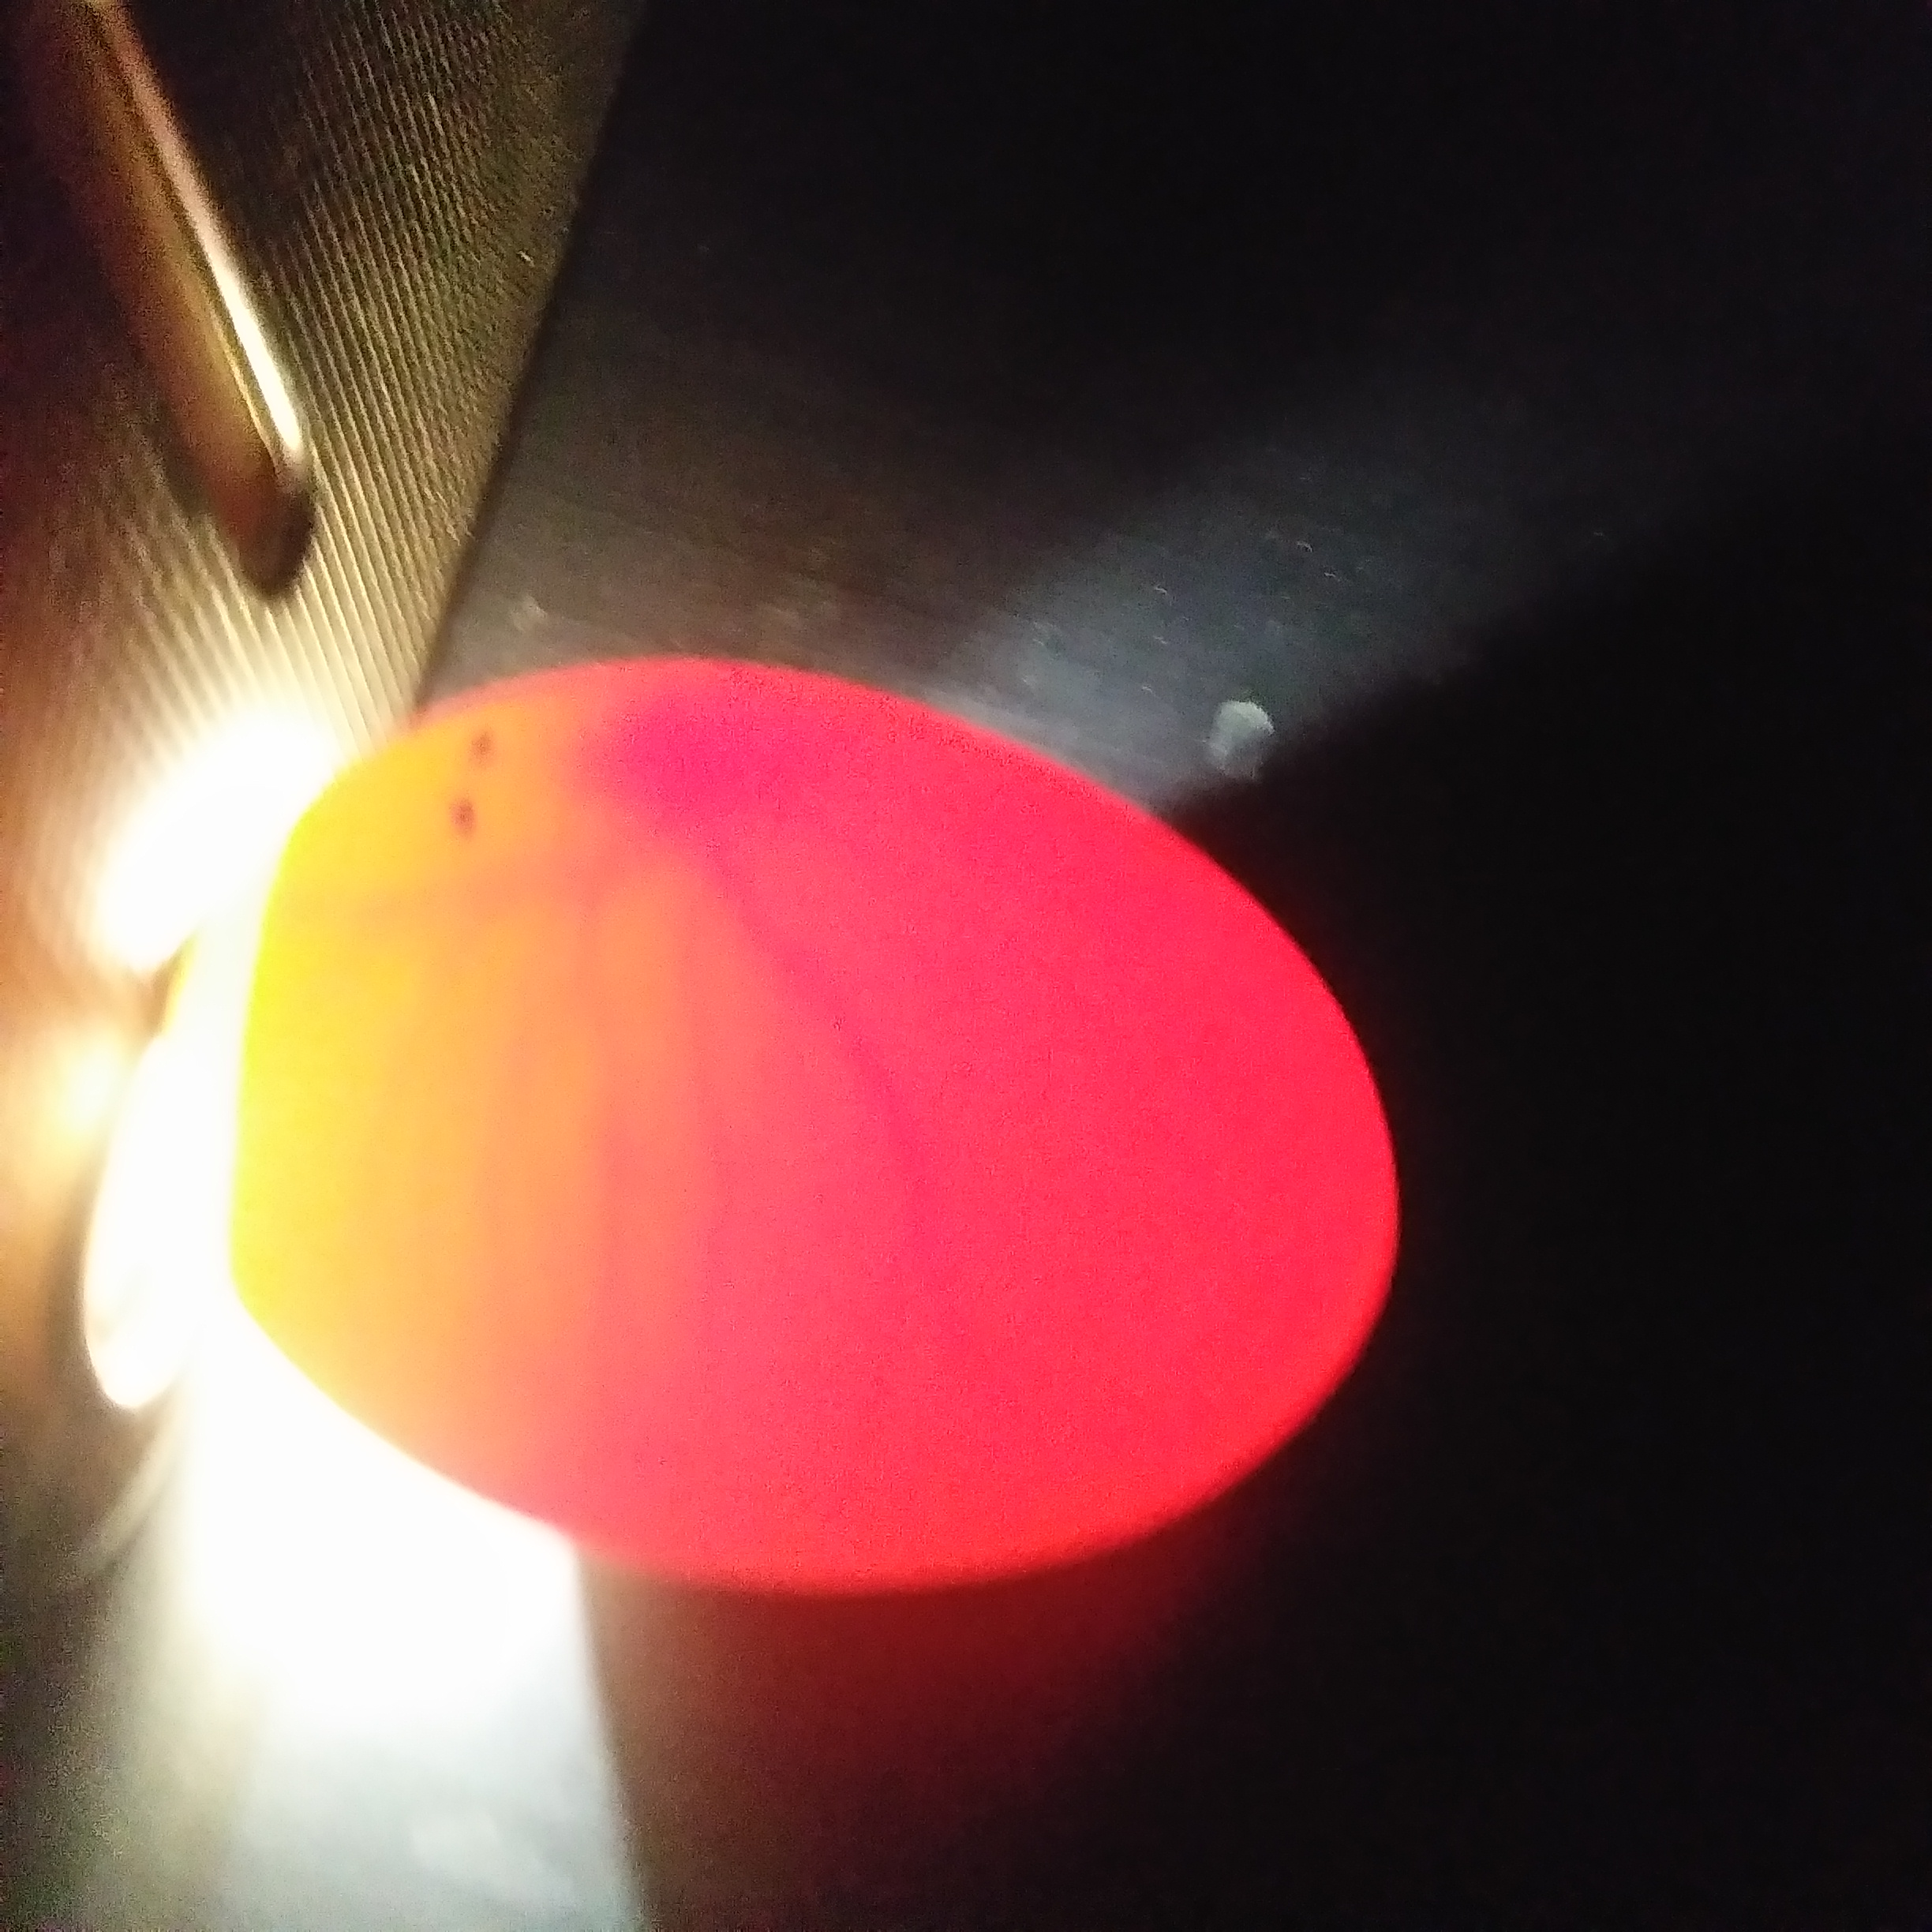bloodcell: (444, 869, 1099, 1479)
embryo: (586, 702, 803, 849)
